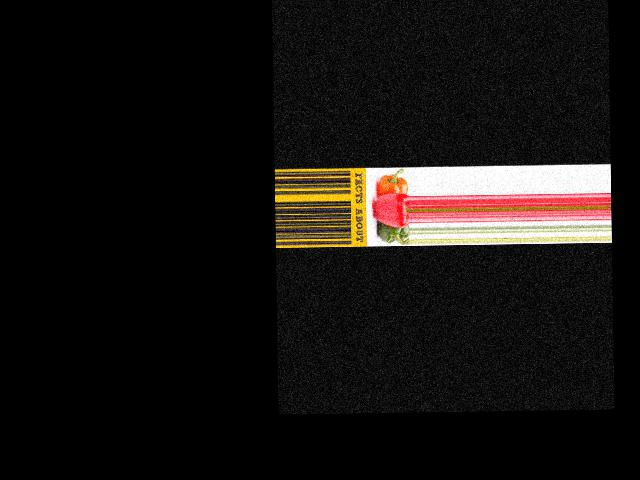bell_pepper: (372, 225, 409, 245)
